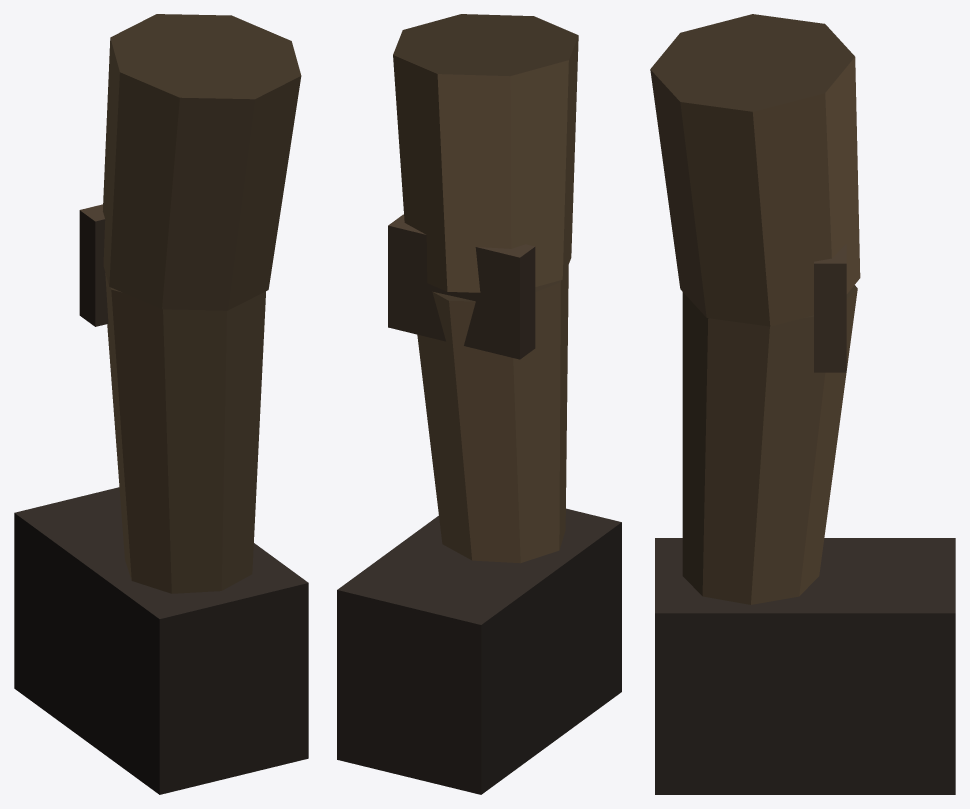
File: terrorist_left_leg.obj
3 renders of one model, left to right at view 1: azimuth 30°, elevation 25°; view 2: azimuth 150°, elevation 25°; view 3: azimuth 270°, elevation 25°, orthographic. The views are drawn at different scales.
Parts seen in each view (by area): view 1: terrorist_left_leg; view 2: terrorist_left_leg; view 3: terrorist_left_leg.
Part boxes in pixels (x1,y1,x2,y2): terrorist_left_leg: (14, 14, 308, 794); terrorist_left_leg: (337, 14, 621, 794); terrorist_left_leg: (650, 14, 955, 794).
Bounding box in the file's own units: 8.54 × 31.38 × 12.19.
Materials: 1 (1 with a texture image).
